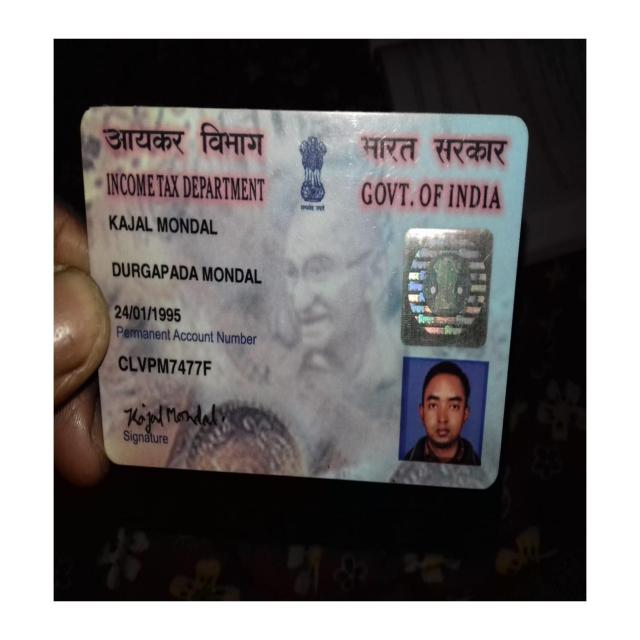pan_card: (81, 110, 522, 492)
